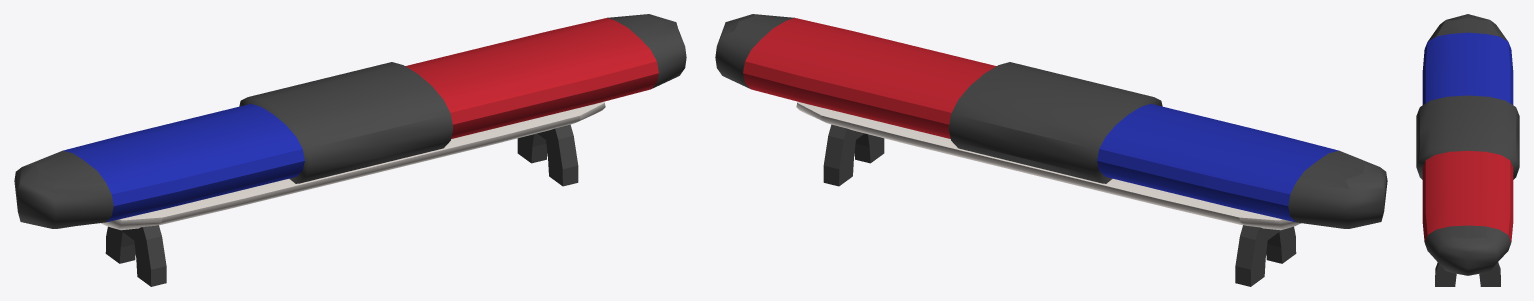
Rendered from Giroflex.fbx.
The picture shows the model from 3 angles, left to right: view 1: azimuth 30°, elevation 25°; view 2: azimuth 150°, elevation 25°; view 3: azimuth 270°, elevation 25°; orthographic projection. The views are drawn at different scales.
Visible parts, largest first — view 1: Cube.005, Cube.006, Cube.002, Cube.001, Cube, Cube.004; view 2: Cube.005, Cube.006, Cube.002, Cube.001, Cube, Cube.004; view 3: Cube.005, Cube.002, Cube.006, Cube.001, Cube.004.
Boxes of the visible parts, x1=… form: Cube.005: x1=405, y1=18, x2=658, y2=138; Cube.006: x1=63, y1=104, x2=304, y2=222; Cube.002: x1=239, y1=62, x2=453, y2=183; Cube.001: x1=14, y1=14, x2=686, y2=228; Cube: x1=100, y1=101, x2=605, y2=230; Cube.004: x1=105, y1=124, x2=578, y2=286; Cube.005: x1=743, y1=18, x2=996, y2=138; Cube.006: x1=1097, y1=104, x2=1338, y2=222; Cube.002: x1=948, y1=62, x2=1162, y2=183; Cube.001: x1=715, y1=14, x2=1387, y2=228; Cube: x1=796, y1=101, x2=1300, y2=230; Cube.004: x1=823, y1=124, x2=1296, y2=286; Cube.005: x1=1422, y1=150, x2=1513, y2=241; Cube.002: x1=1416, y1=95, x2=1519, y2=179; Cube.006: x1=1422, y1=32, x2=1513, y2=104; Cube.001: x1=1424, y1=14, x2=1511, y2=275; Cube.004: x1=1435, y1=262, x2=1500, y2=286.
Bounding box in the file's own units: 2611 × 476 × 487.
